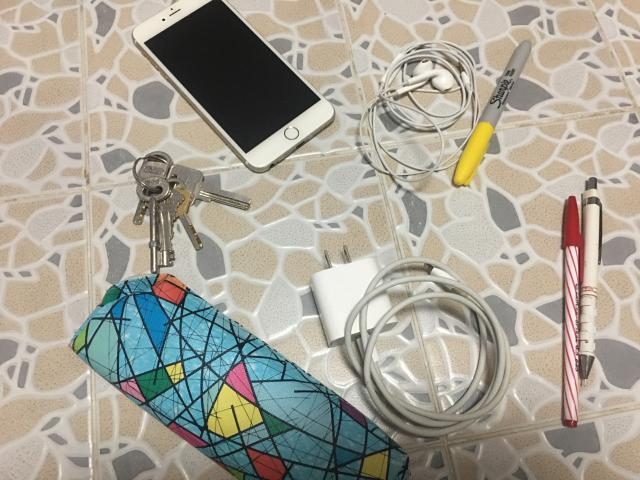Keys: (132, 151, 250, 274)
Mobile phone: (132, 0, 335, 172)
Pen: (454, 40, 531, 186), (579, 176, 602, 385), (562, 196, 582, 428)
wire: (310, 246, 510, 438), (360, 41, 480, 181)
